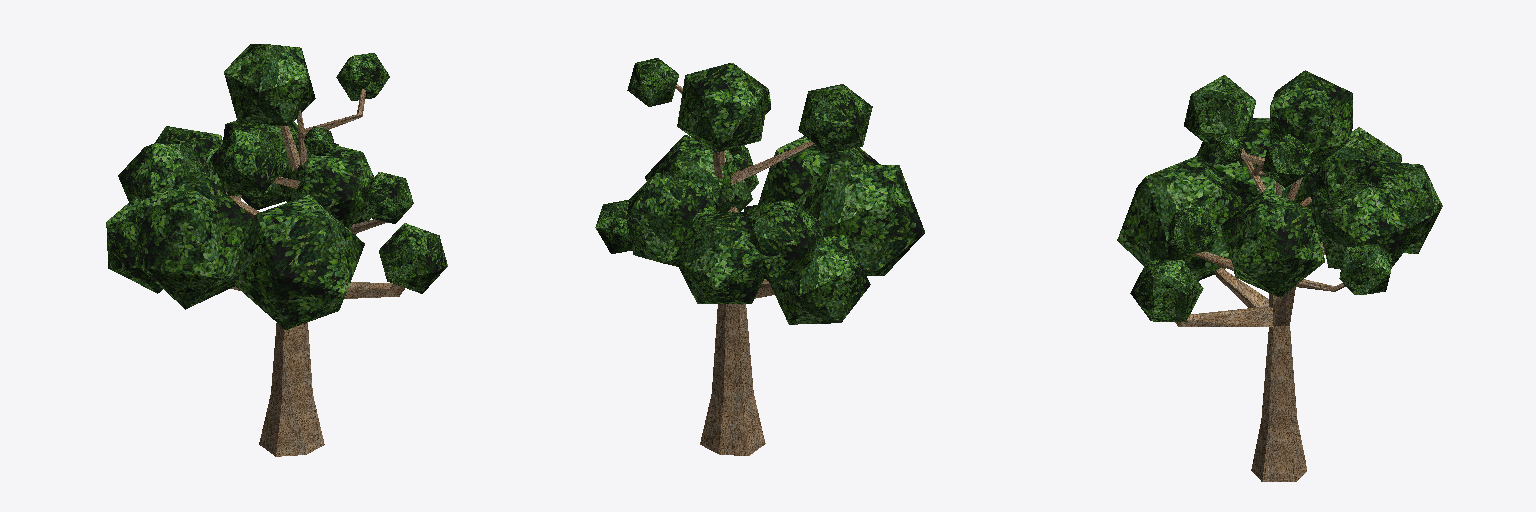
3 renders of one model, left to right at view 1: azimuth 30°, elevation 25°; view 2: azimuth 150°, elevation 25°; view 3: azimuth 270°, elevation 25°, orthographic.
Parts seen in each view (by area): view 1: Icosphere.009, Icosphere.001, Cube, Icosphere.003, Icosphere.007, Icosphere.002, Icosphere.008, Icosphere.013, Icosphere, Icosphere.010, Icosphere.011, Icosphere.004 (+2 smaller); view 2: Icosphere.001, Cube, Icosphere.005, Icosphere.003, Icosphere, Icosphere.004, Icosphere.013, Icosphere.002, Icosphere.007, Icosphere.009, Icosphere.011, Icosphere.006; view 3: Cube, Icosphere.009, Icosphere.007, Icosphere.004, Icosphere.003, Icosphere.002, Icosphere.008, Icosphere.005, Icosphere.013, Icosphere.001, Icosphere.006, Icosphere.010 (+3 smaller).
Boxes of the visible parts, <box> form: Icosphere.009: <box>230,195,364,329</box>; Icosphere.001: <box>135,172,253,309</box>; Cube: <box>226,89,404,456</box>; Icosphere.003: <box>224,44,315,125</box>; Icosphere.007: <box>279,145,373,234</box>; Icosphere.002: <box>210,130,286,195</box>; Icosphere.008: <box>379,223,447,293</box>; Icosphere.013: <box>118,143,205,201</box>; Icosphere: <box>106,197,162,293</box>; Icosphere.010: <box>361,172,413,223</box>; Icosphere.011: <box>336,53,389,100</box>; Icosphere.004: <box>223,120,299,209</box>; Icosphere.001: <box>795,164,924,275</box>; Cube: <box>676,84,815,455</box>; Icosphere.005: <box>674,212,764,303</box>; Icosphere.003: <box>677,63,768,152</box>; Icosphere: <box>769,235,870,324</box>; Icosphere.004: <box>627,173,716,266</box>; Icosphere.013: <box>744,200,825,282</box>; Icosphere.002: <box>798,84,872,153</box>; Icosphere.007: <box>645,135,752,212</box>; Icosphere.009: <box>758,136,880,204</box>; Icosphere.011: <box>627,58,678,106</box>; Icosphere.006: <box>595,200,632,253</box>; Cube: <box>1175,139,1345,481</box>; Icosphere.009: <box>1117,155,1248,280</box>; Icosphere.007: <box>1221,189,1324,297</box>; Icosphere.004: <box>1319,181,1409,269</box>; Icosphere.003: <box>1270,70,1352,164</box>; Icosphere.002: <box>1184,75,1255,149</box>; Icosphere.008: <box>1130,259,1203,321</box>; Icosphere.005: <box>1357,161,1442,253</box>; Icosphere.013: <box>1316,127,1401,201</box>; Icosphere.001: <box>1196,118,1317,203</box>; Icosphere.006: <box>1339,244,1392,294</box>; Icosphere.010: <box>1167,206,1218,254</box>.
Bounding box in the file's own units: 1.01 × 1.43 × 1.07.
Materials: 2 (2 with a texture image).